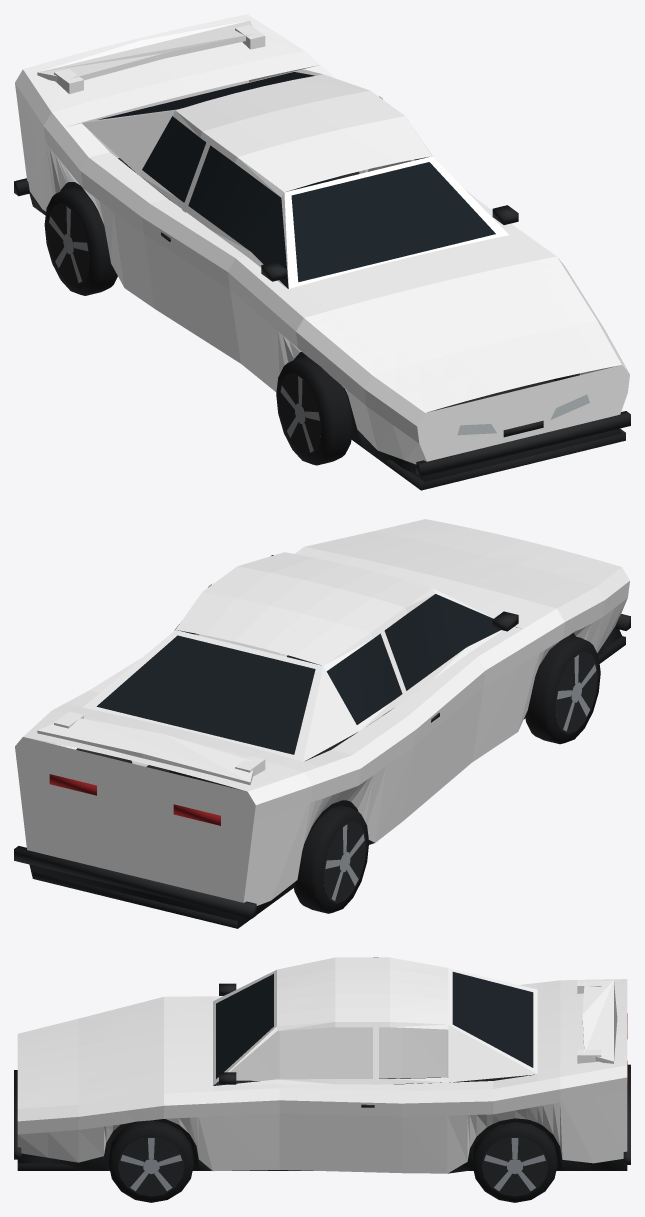
File: whitlock_cavalo.glb
3 renders of one model, top to bottom at view 1: azimuth 30°, elevation 25°; view 2: azimuth 150°, elevation 25°; view 3: azimuth 270°, elevation 25°, orthographic. The views are drawn at different scales.
Visible parts, largest first — view 1: Body_Paint, Body_Details, Mount_FrontLeft_Wheel_Details, Mount_RearLeft_Wheel_Details; view 2: Body_Paint, Body_Details, Mount_FrontLeft_Wheel_Details, Mount_RearLeft_Wheel_Details; view 3: Body_Paint, Body_Details, Mount_FrontRight_Wheel_Details, Mount_RearRight_Wheel_Details.
Boxes of the visible parts, left/top/right/bottom form: Body_Paint: left=15, top=14, right=629, bottom=464; Body_Details: left=14, top=72, right=630, bottom=490; Mount_FrontLeft_Wheel_Details: left=276, top=356, right=352, bottom=465; Mount_RearLeft_Wheel_Details: left=44, top=187, right=117, bottom=295; Body_Paint: left=15, top=519, right=629, bottom=905; Body_Details: left=14, top=555, right=630, bottom=928; Mount_FrontLeft_Wheel_Details: left=525, top=635, right=600, bottom=744; Mount_RearLeft_Wheel_Details: left=293, top=805, right=368, bottom=913; Body_Paint: left=17, top=957, right=627, bottom=1173; Body_Details: left=14, top=972, right=630, bottom=1173; Mount_FrontRight_Wheel_Details: left=108, top=1120, right=193, bottom=1202; Mount_RearRight_Wheel_Details: left=472, top=1122, right=557, bottom=1202.
Size of the model in its own units: 1.9 by 1.36 by 4.61.
Materials: 2 (1 with a texture image).
